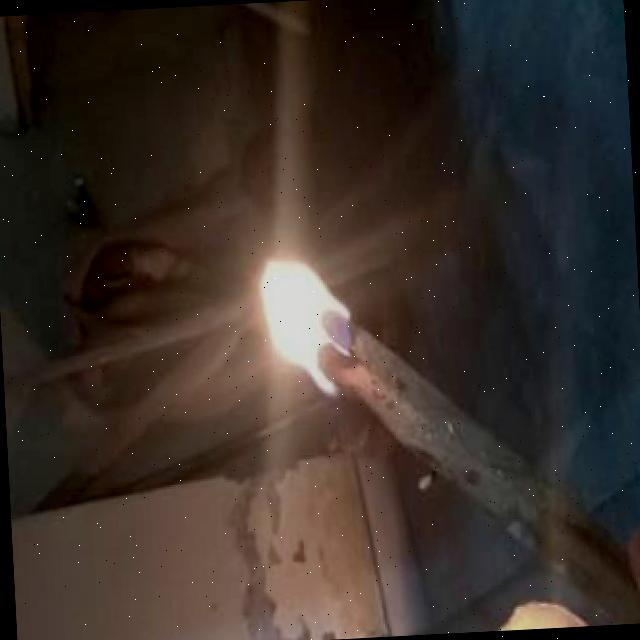fire: (252, 238, 356, 399)
